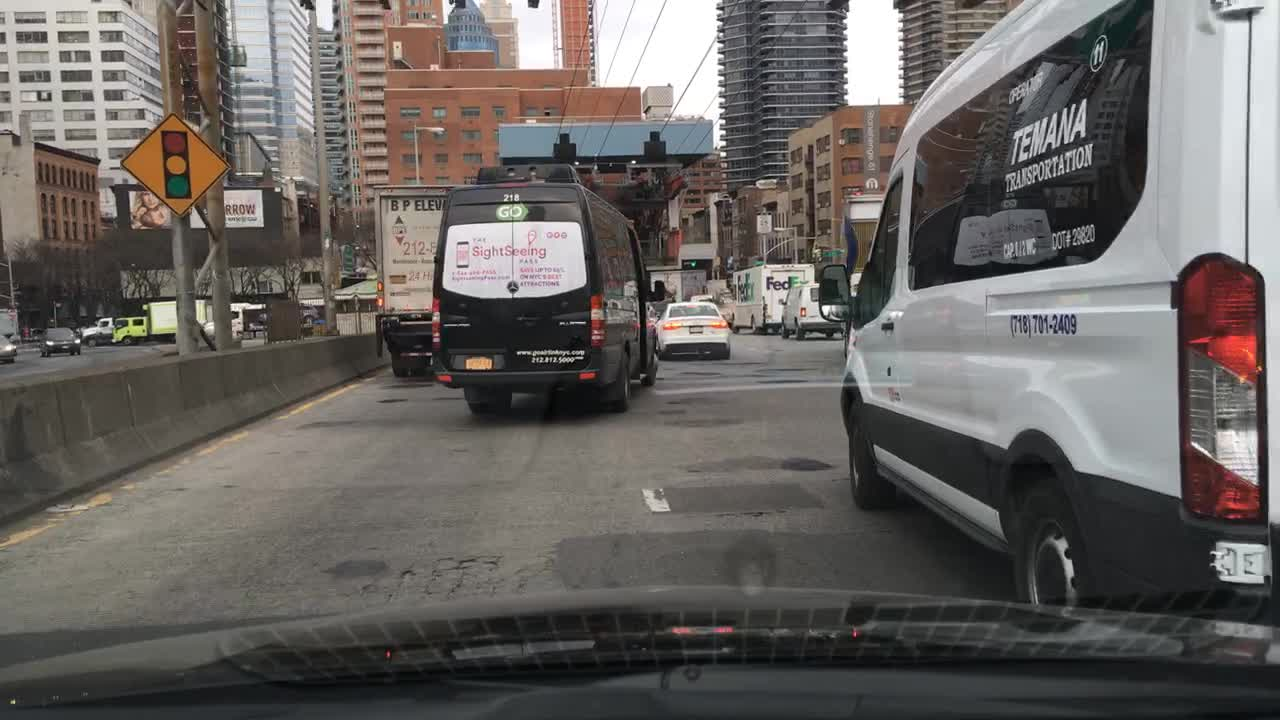car: (818, 1, 1278, 626), (430, 164, 658, 413), (657, 304, 730, 356), (777, 280, 839, 341), (689, 292, 731, 325), (37, 326, 78, 356), (298, 302, 321, 332), (0, 332, 17, 360)
traffic sign: (120, 113, 229, 221), (754, 209, 772, 235), (339, 241, 355, 270)
truck: (372, 180, 453, 376), (730, 260, 815, 335), (109, 299, 210, 345), (201, 290, 264, 335), (647, 270, 701, 304), (78, 316, 113, 345), (0, 306, 17, 337), (706, 275, 728, 294)
